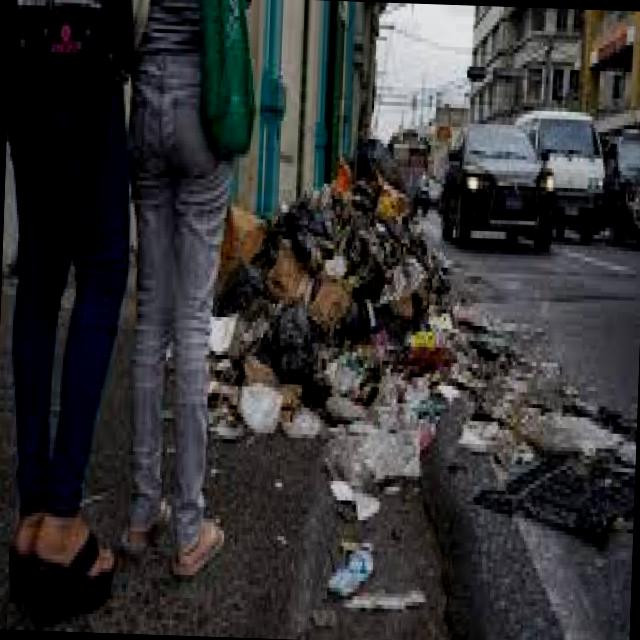garbage: (216, 173, 494, 480)
